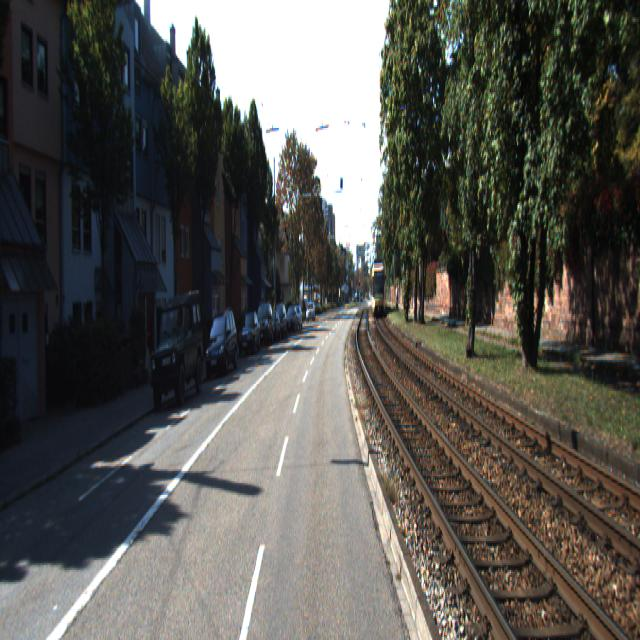Car: (149, 288, 204, 415), (204, 311, 238, 382), (237, 310, 260, 356), (254, 301, 274, 348), (370, 264, 386, 320)
